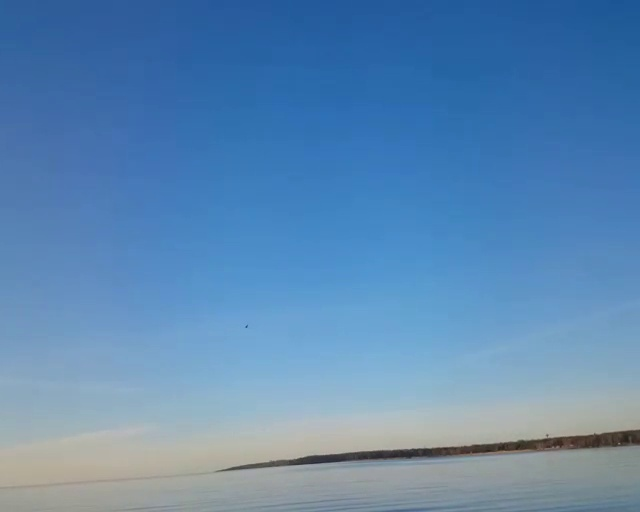BIRD: (239, 318, 254, 336)
